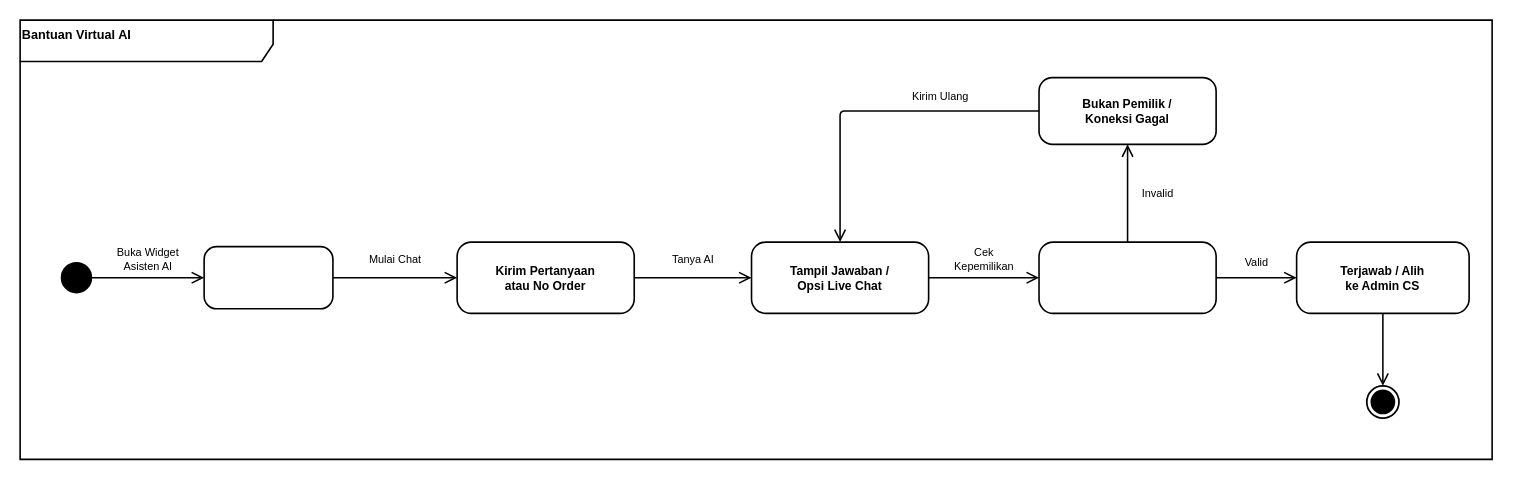
The diagram is 1513 pixels wide and 481 high, and some of its shapes have lost their labels. The centre of each missing label's shape, as x and y in pixels:
"Idle" belongs at [268,277].
"Mengecek Sesi & Data Pesanan" belongs at [1127,277].
